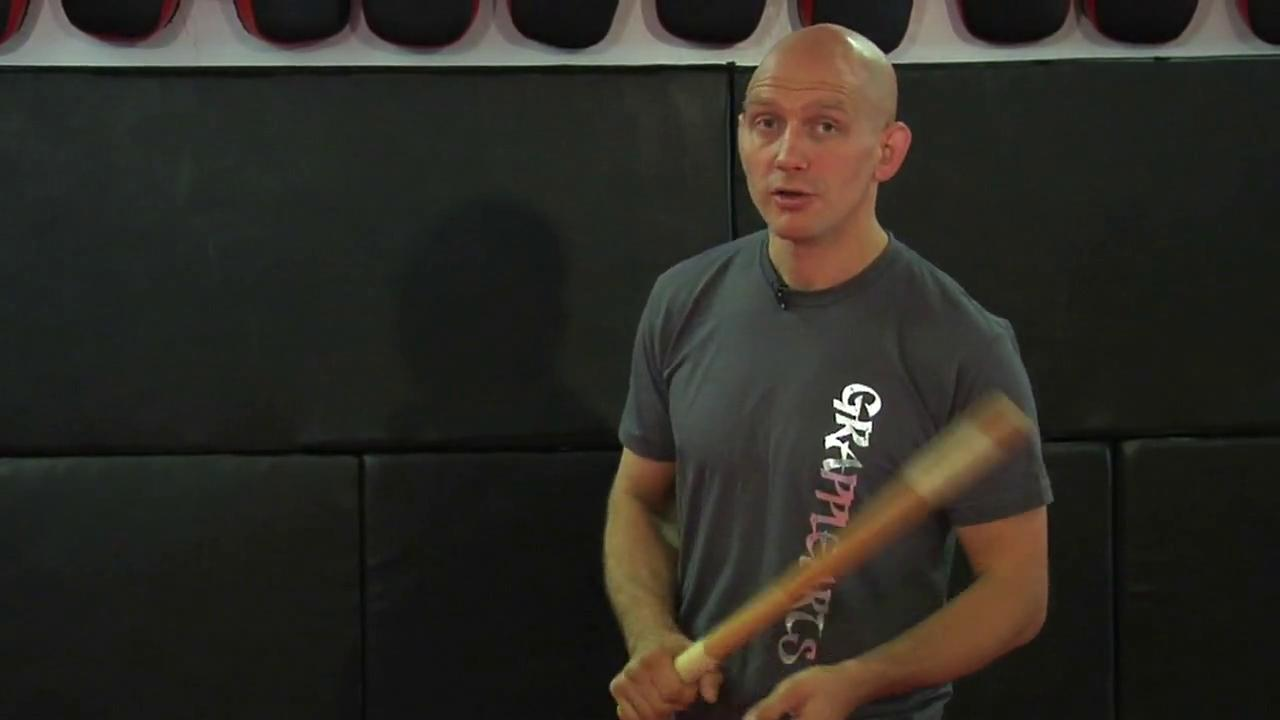victim: (596, 19, 1060, 720)
